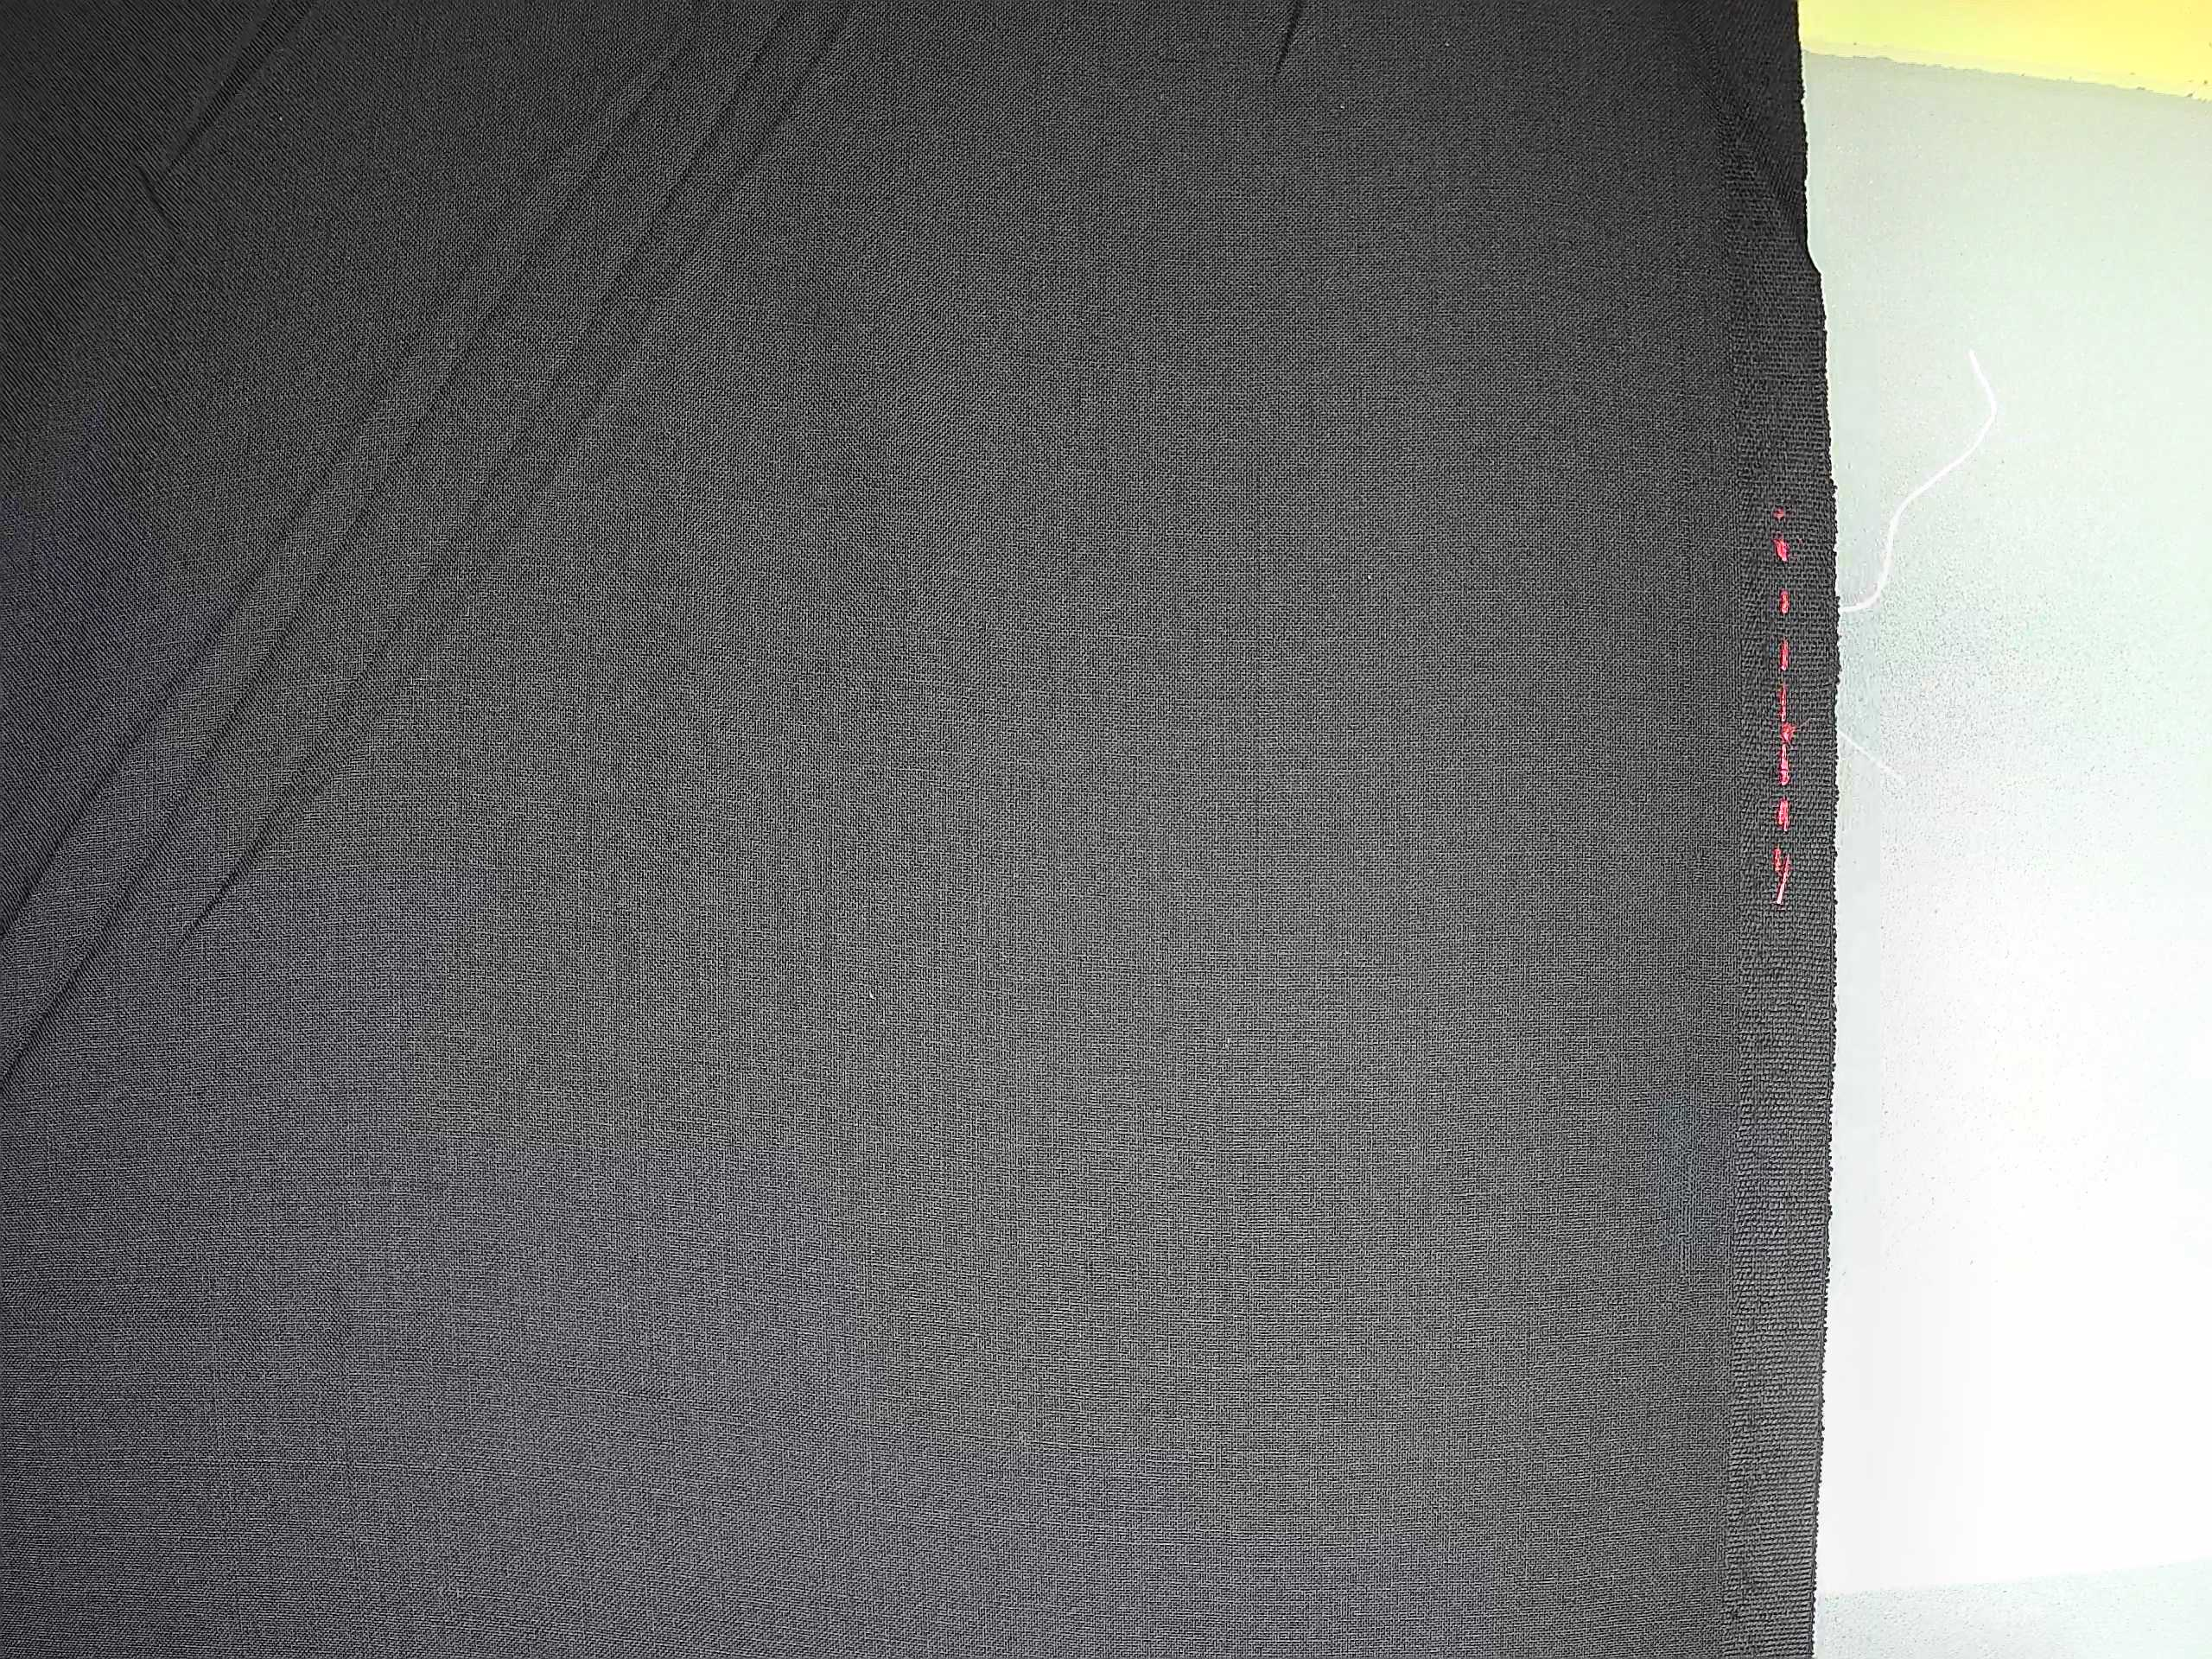hanging-warp: (1658, 85, 1710, 871)
